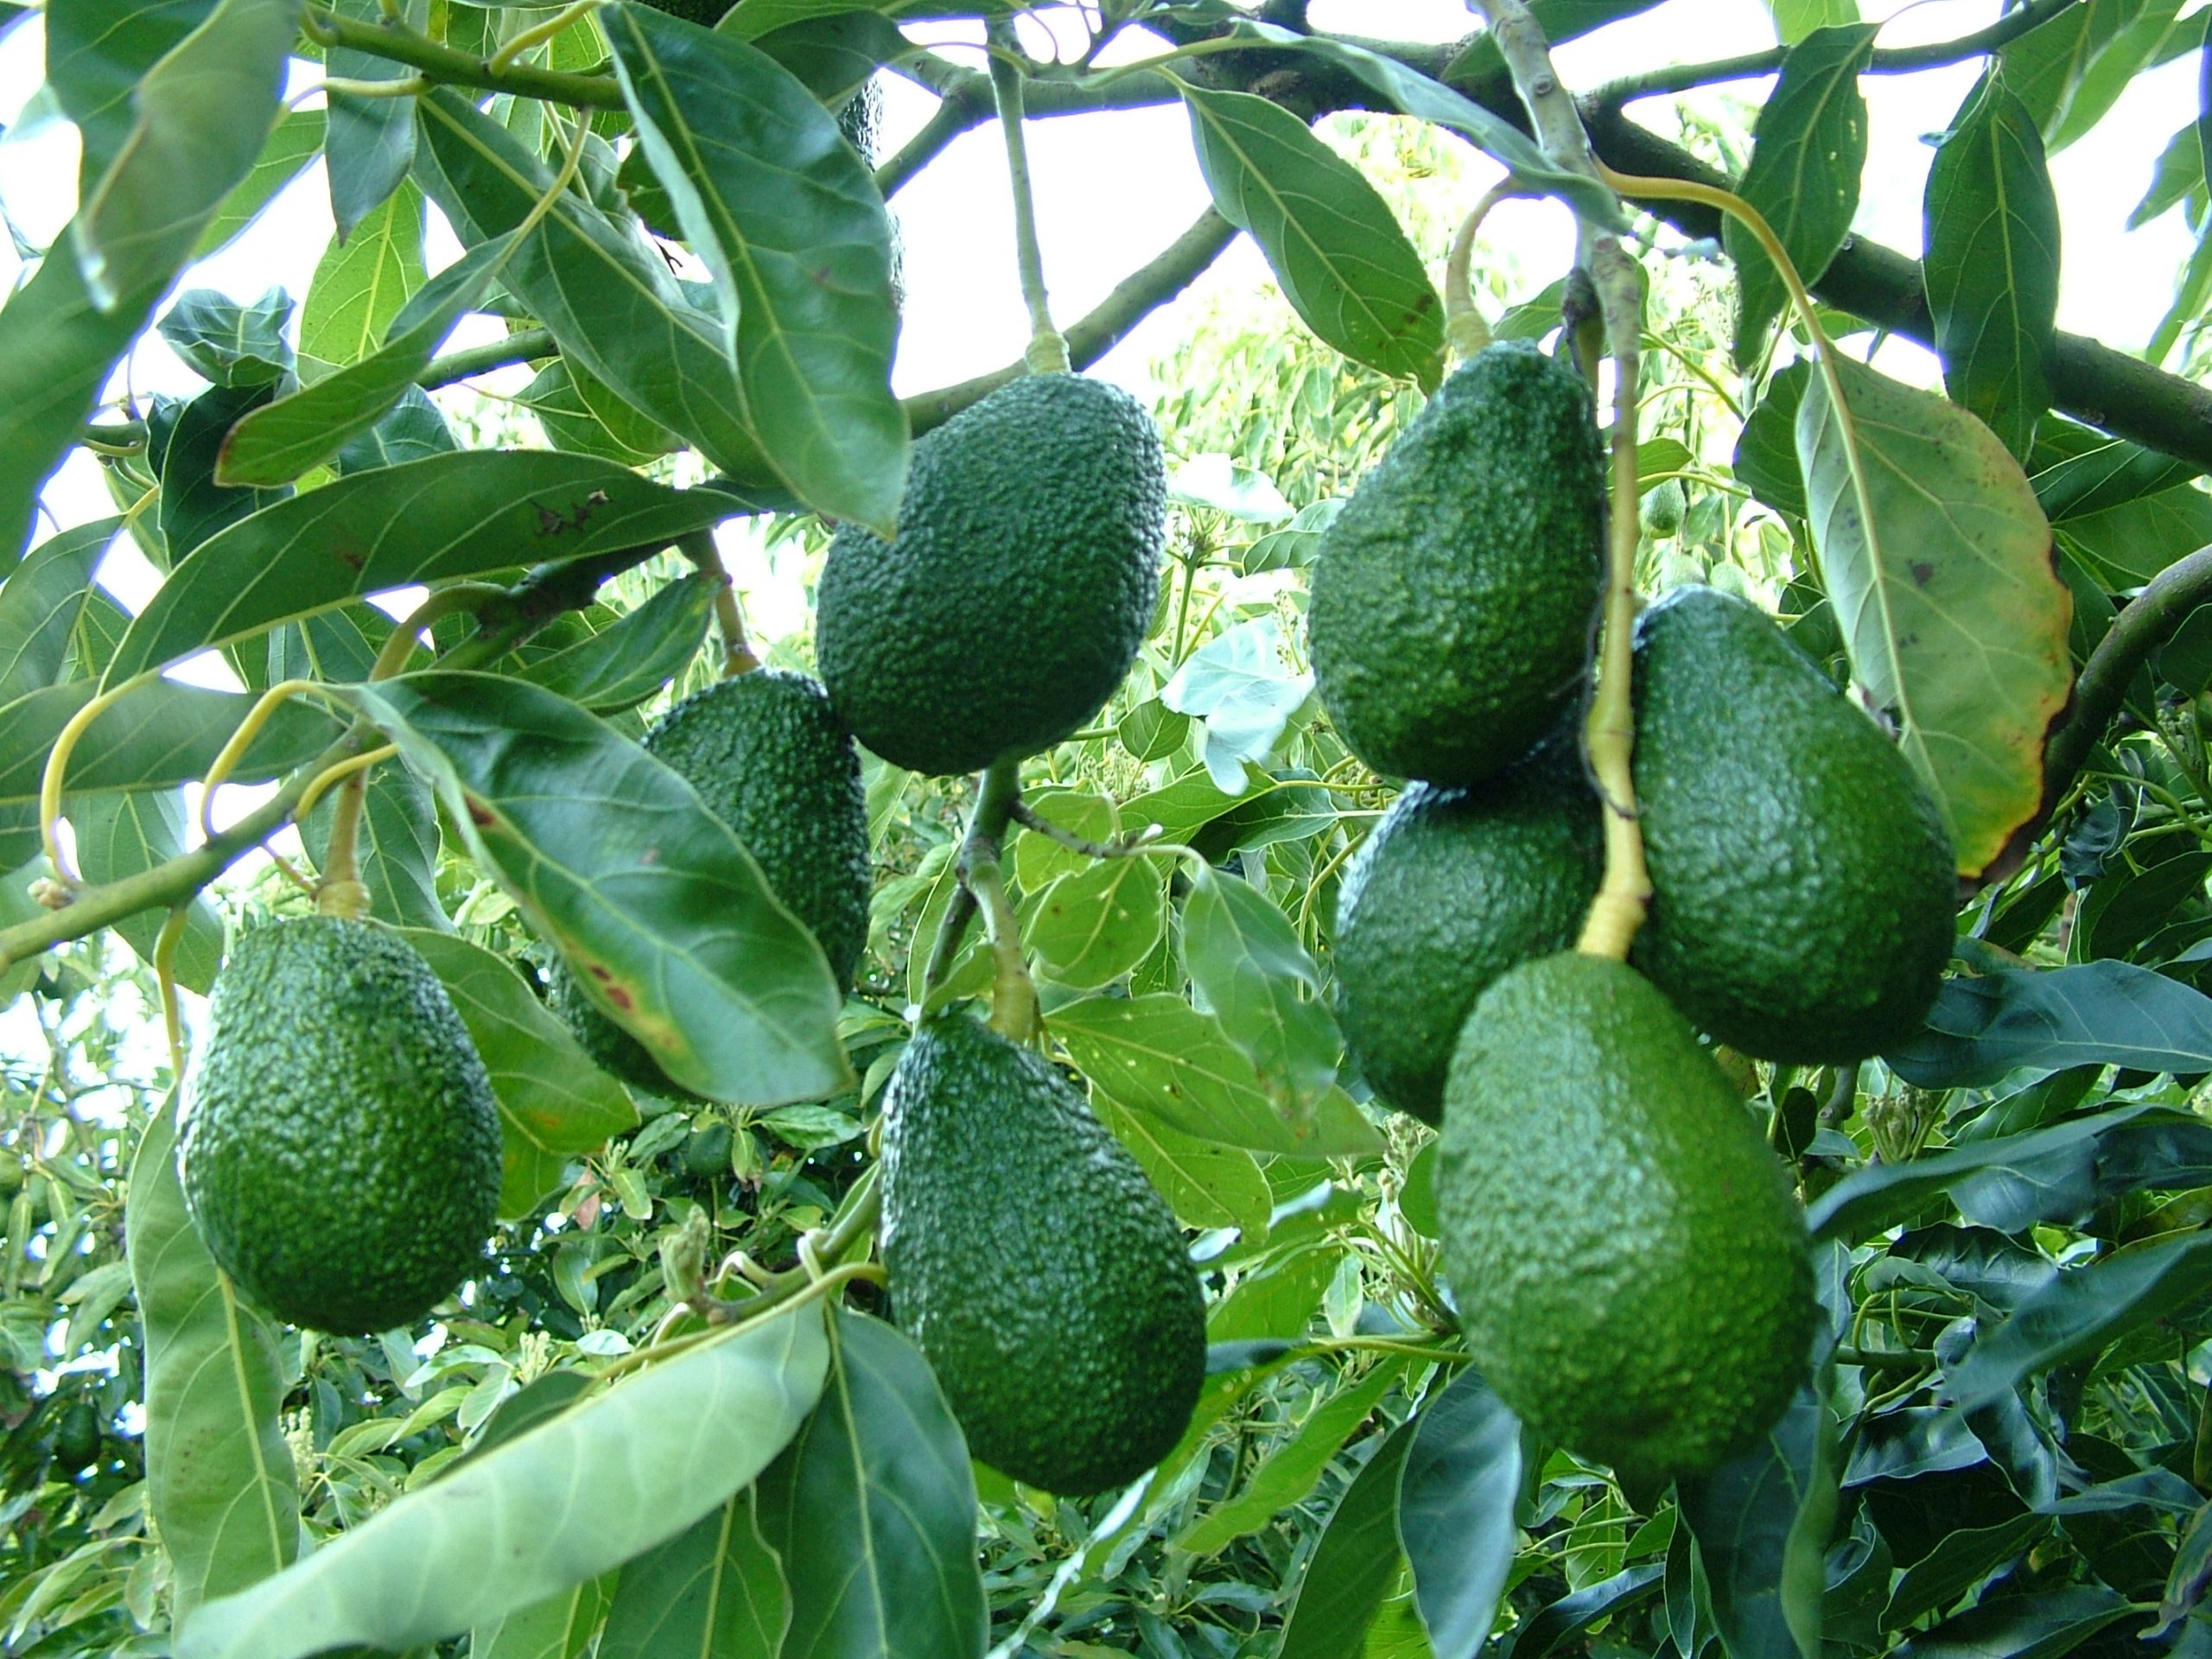avocado: (1291, 808, 2032, 1450), (849, 977, 1230, 1485), (1640, 601, 1974, 1097), (207, 908, 482, 1347), (887, 376, 1179, 786), (1332, 314, 1587, 776)
